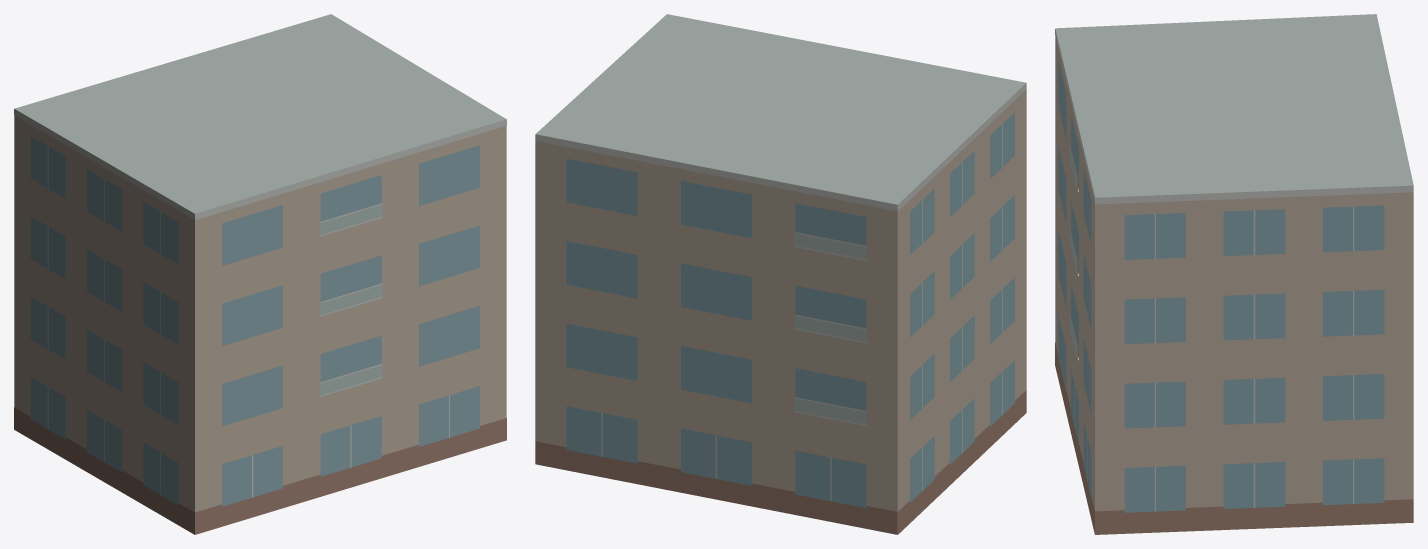
Rendered from survey-upis-32633515.glb.
The picture shows the model from 3 angles, left to right: view 1: azimuth 30°, elevation 25°; view 2: azimuth 150°, elevation 25°; view 3: azimuth 270°, elevation 25°; orthographic projection. The views are drawn at different scales.
Parts seen in each view (by area): view 1: survey-upis-32633515.tmp; view 2: survey-upis-32633515.tmp; view 3: survey-upis-32633515.tmp.
Boxes of the visible parts, box(x1,y1,x2,y2) form: survey-upis-32633515.tmp: box(14, 14, 506, 534); survey-upis-32633515.tmp: box(535, 14, 1026, 534); survey-upis-32633515.tmp: box(1055, 14, 1413, 534).
Size of the model in its own units: 14.27 by 12.2 by 11.77.
